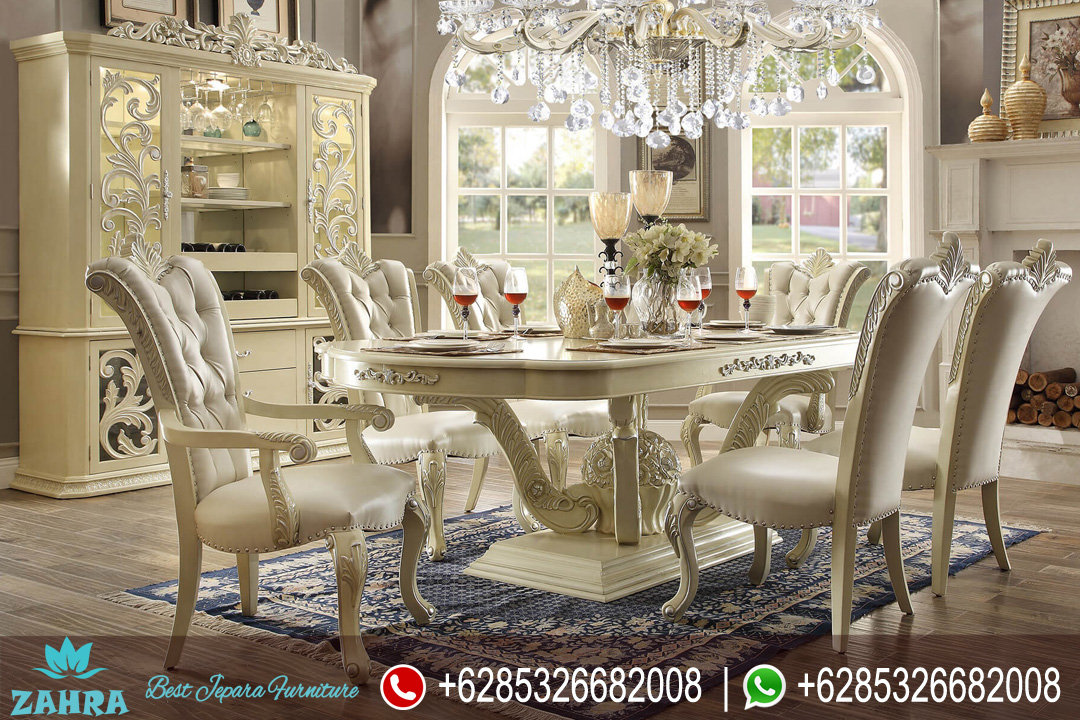Carving Chair: (704, 239, 1080, 663), (79, 224, 440, 665)
Carving Table: (316, 309, 886, 586)
